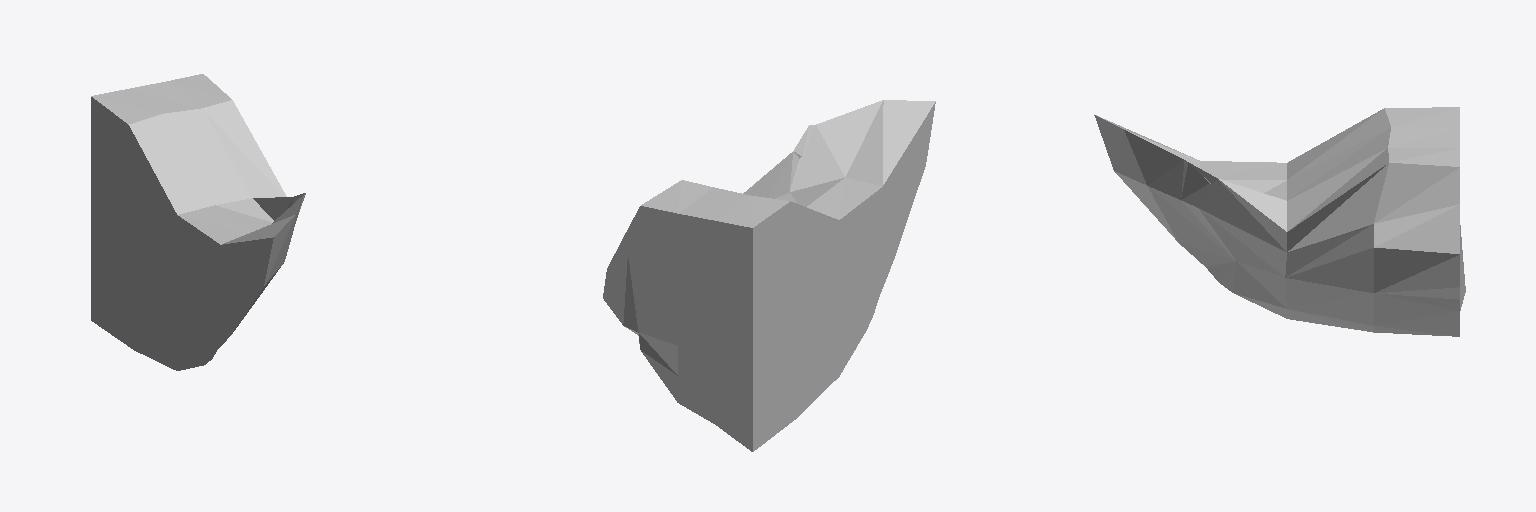
The model's file is frontLeft.obj.
3 renders of one model, left to right at view 1: azimuth 30°, elevation 25°; view 2: azimuth 150°, elevation 25°; view 3: azimuth 270°, elevation 25°, orthographic.
Parts seen in each view (by area): view 1: Cube_Front_L_Cube.002; view 2: Cube_Front_L_Cube.002; view 3: Cube_Front_L_Cube.002.
Part boxes in pixels (x1,y1,x2,y2): Cube_Front_L_Cube.002: (91, 74, 305, 370); Cube_Front_L_Cube.002: (603, 100, 935, 451); Cube_Front_L_Cube.002: (1094, 107, 1465, 336).
Size of the model in its own units: 1 by 1.43 by 2.15.